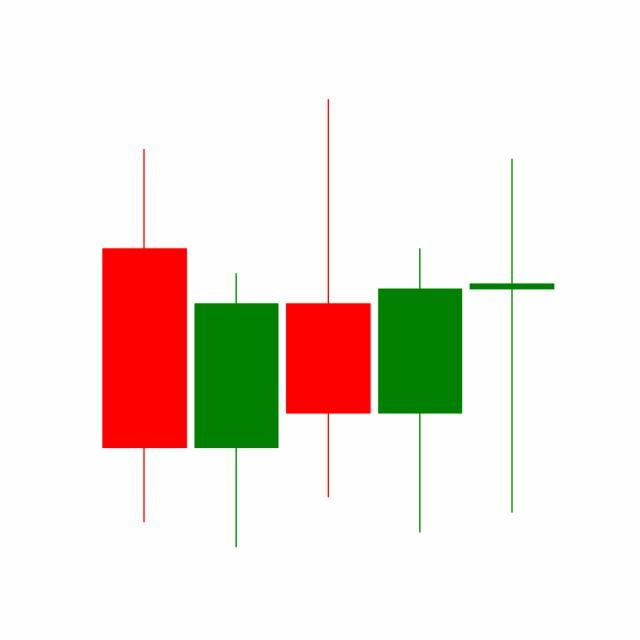Spinning Top: (466, 155, 559, 517)
